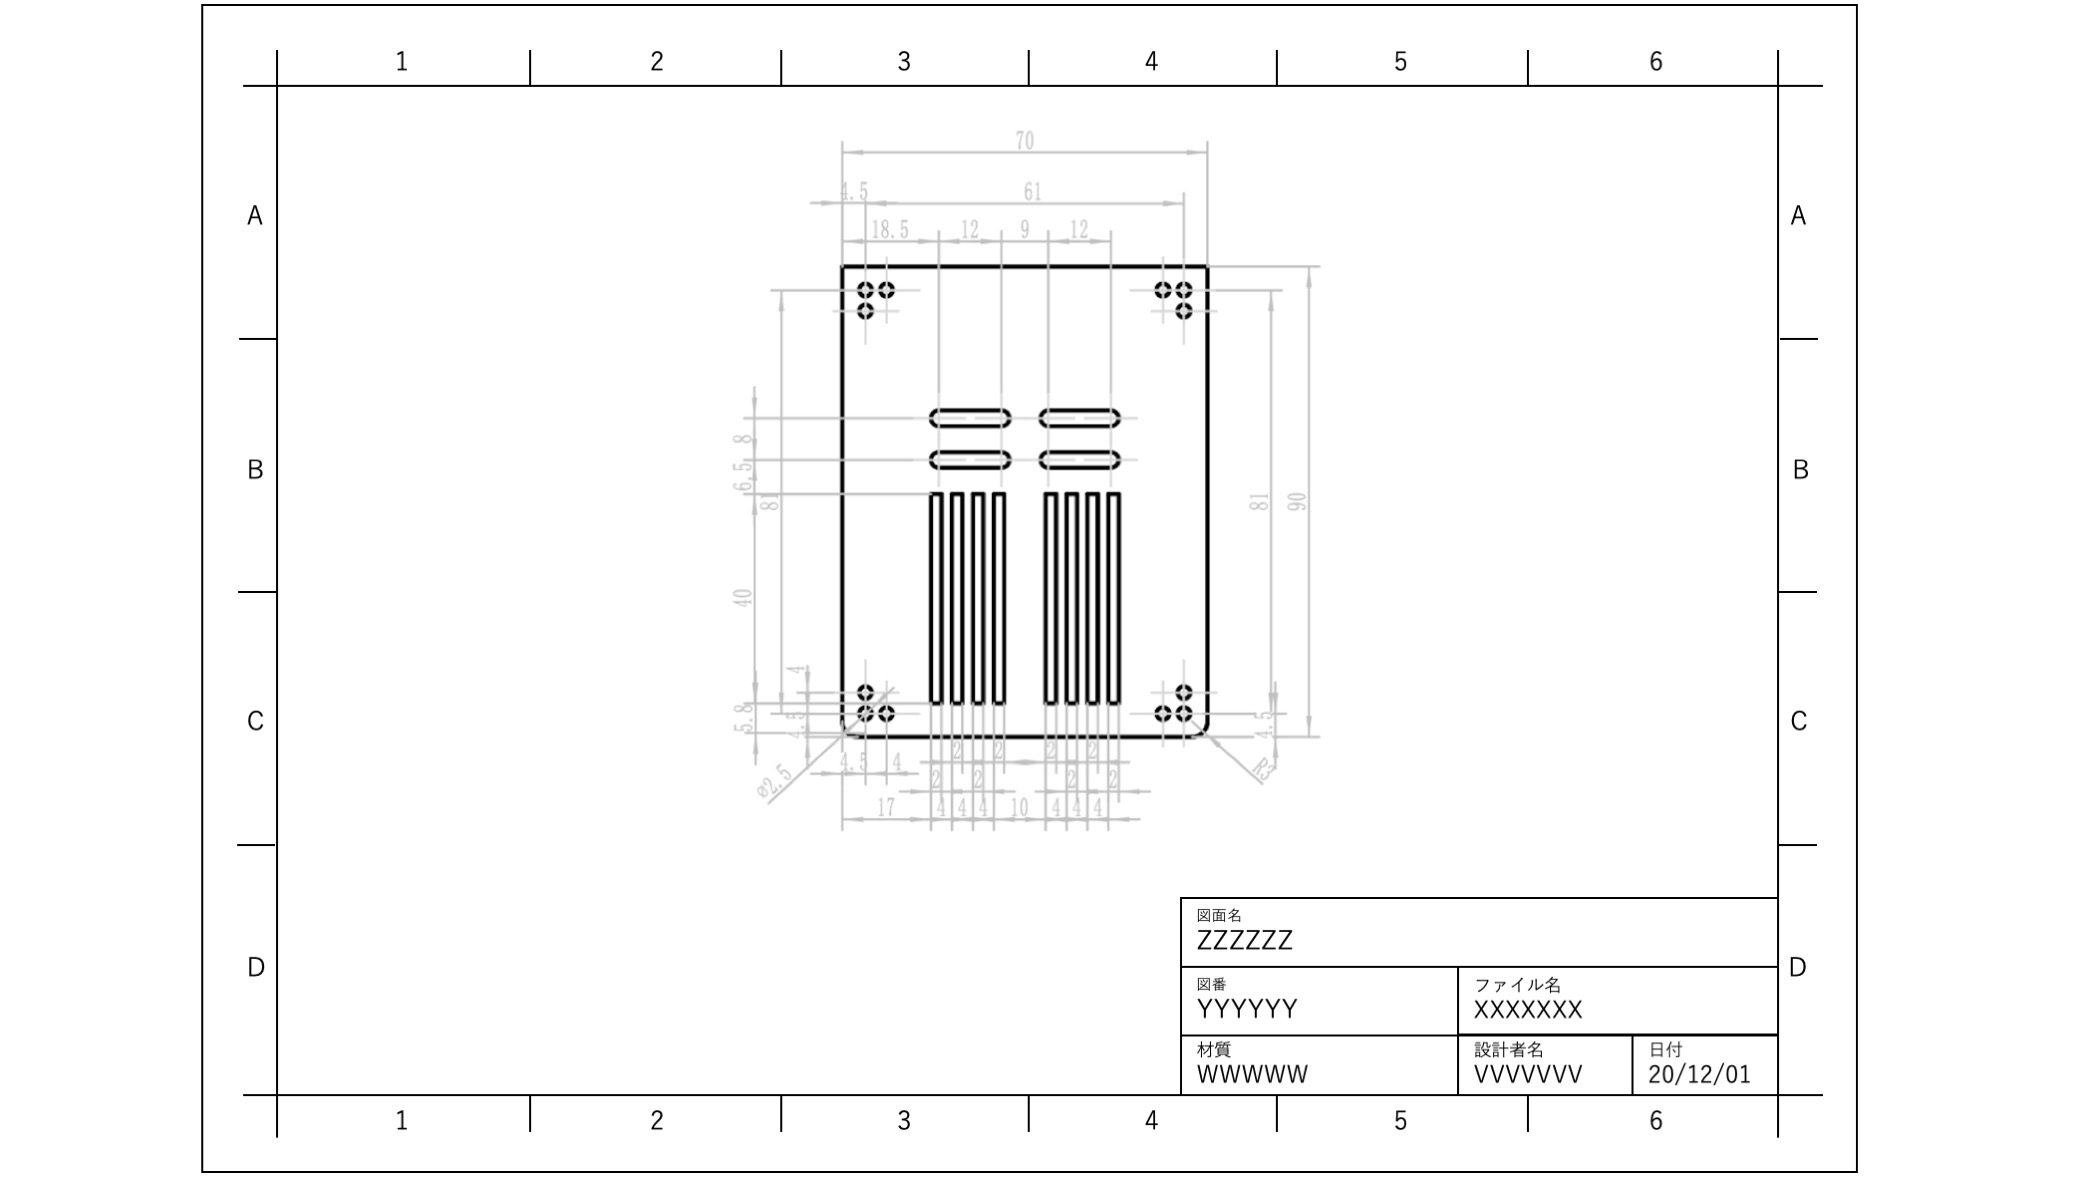circle: (1170, 274, 1196, 297), (1170, 676, 1196, 699), (854, 676, 875, 704), (854, 297, 880, 319), (852, 699, 873, 725), (1154, 275, 1173, 303), (1173, 300, 1197, 320), (1152, 699, 1173, 724), (1171, 702, 1196, 722), (877, 273, 896, 298), (875, 702, 897, 724), (855, 270, 870, 294)
rectangle: (1038, 486, 1060, 709), (1105, 482, 1125, 707), (948, 485, 968, 707), (925, 486, 945, 705), (992, 485, 1010, 709), (1063, 485, 1079, 708), (1085, 486, 1100, 709), (972, 485, 988, 707)
round_rectangle: (923, 401, 1015, 434), (926, 441, 1012, 474), (1036, 446, 1126, 474), (1033, 402, 1126, 430)
